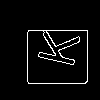K: (28, 25, 81, 69)
